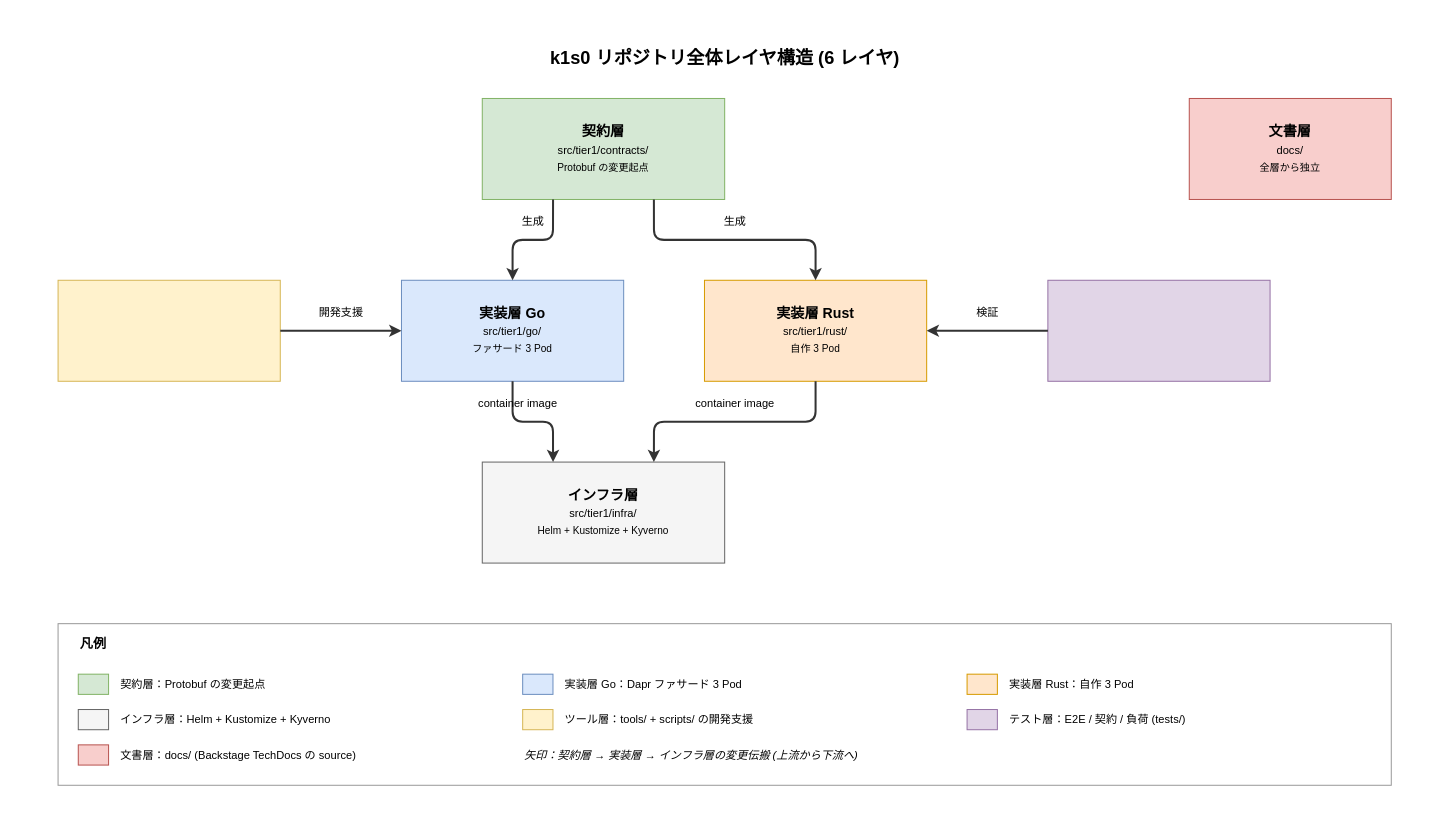
Image size: 1448x822. Some labels were removed from this diagram. Each missing label, with the centre of its shape:
"ツール層 tools/ + scripts/ 開発支援" belongs at point 168,330.
"テスト層 tests/ E2E / 契約 / 負荷" belongs at point 1158,330.
